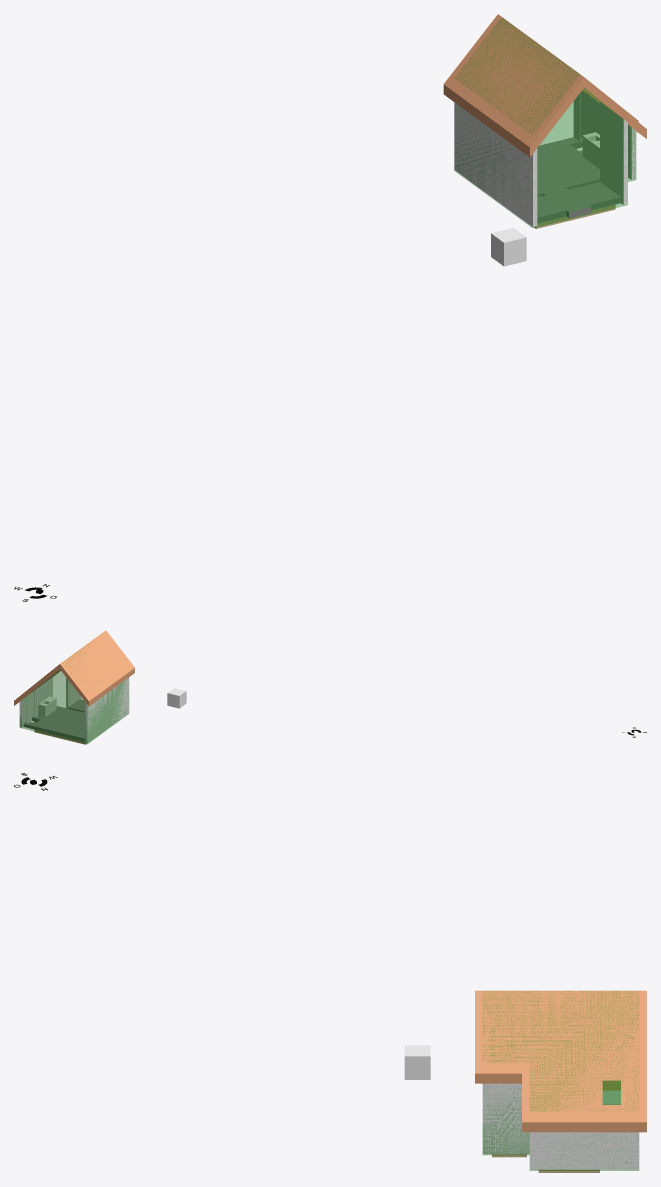
Rendered from Building-Architecture.glb.
The picture shows the model from 3 angles, top to bottom: view 1: azimuth 30°, elevation 25°; view 2: azimuth 150°, elevation 25°; view 3: azimuth 270°, elevation 25°; orthographic projection. The views are drawn at different scales.
Bounding box in the file's own units: 38.54 × 7 × 24.29.
